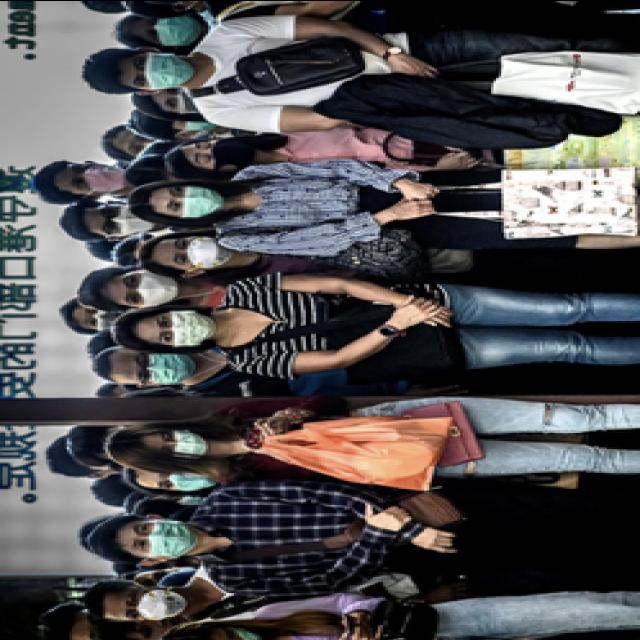with_mask: (124, 515, 196, 557), (126, 346, 193, 384), (118, 584, 185, 622), (164, 235, 232, 272), (149, 308, 213, 346), (126, 50, 188, 88), (119, 267, 178, 304), (160, 185, 223, 218), (138, 13, 200, 45), (98, 202, 154, 236), (185, 138, 252, 166), (149, 464, 216, 491), (150, 427, 206, 459), (64, 162, 124, 190), (218, 625, 269, 640)
